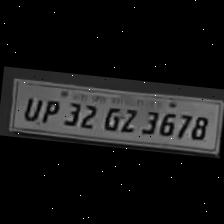2: (77, 96, 99, 130)
3: (138, 102, 160, 136), (60, 94, 82, 127)
6: (155, 105, 178, 136)
7: (174, 107, 192, 138)
8: (187, 110, 209, 140)
G: (99, 99, 122, 131)
P: (39, 94, 61, 125)
U: (18, 91, 42, 122)
Z: (116, 101, 139, 134)
